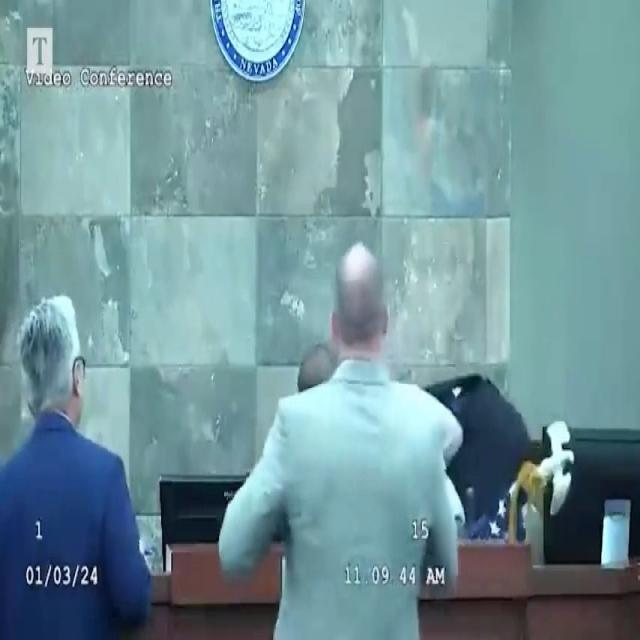non-fight: (220, 237, 479, 640), (2, 281, 158, 640)
